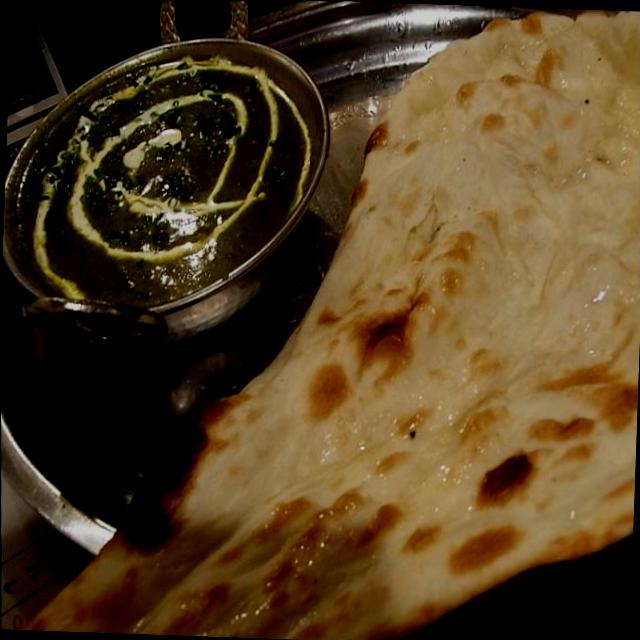Beef Curry: (21, 80, 278, 262)
